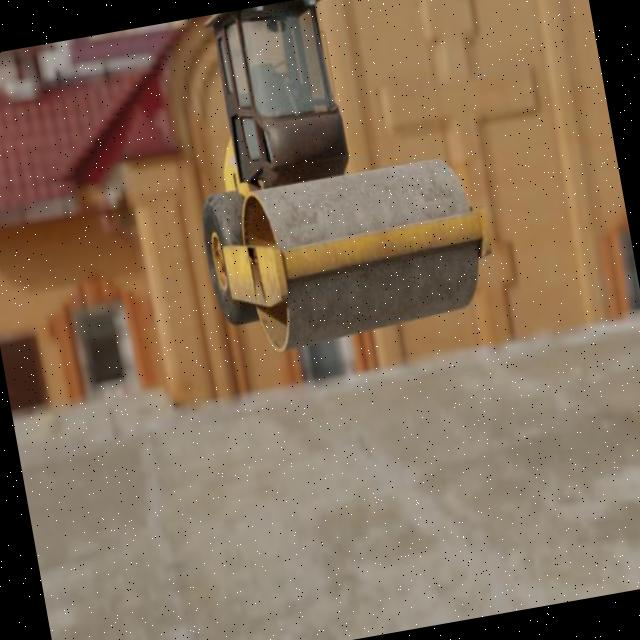Roller: (164, 0, 503, 361)
